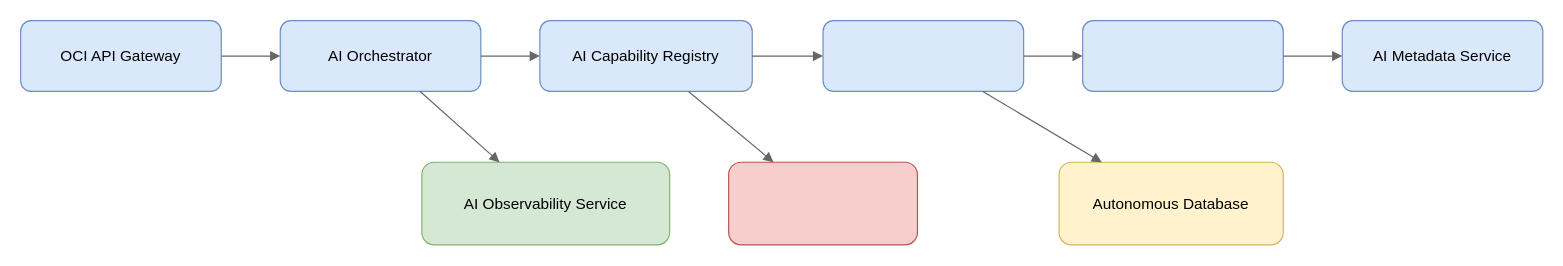
This 1563x266 diagram has some shape labels left out. Each missing label, with the centre of its shape:
"AI Runtime Service" belongs at (923,55).
"AI Security Service" belongs at (1182,55).
"Audit Service" belongs at (822,203).
